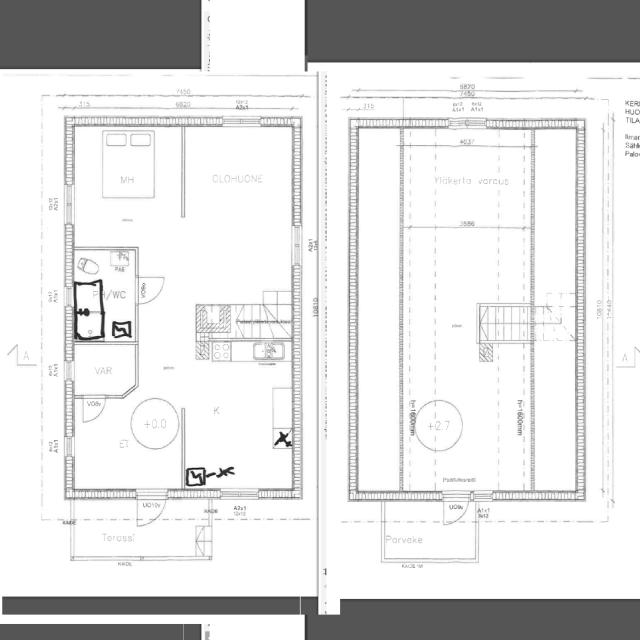door: (135, 488, 169, 528), (135, 274, 166, 305), (442, 490, 470, 524), (79, 393, 107, 425)
window: (287, 222, 306, 272), (62, 180, 78, 231), (219, 114, 265, 130), (218, 487, 260, 500), (447, 117, 489, 130), (63, 432, 77, 460), (63, 357, 77, 384), (473, 490, 494, 502)
zone: (184, 122, 296, 490), (70, 125, 184, 249), (70, 394, 182, 492), (72, 248, 137, 342), (70, 342, 138, 397)
